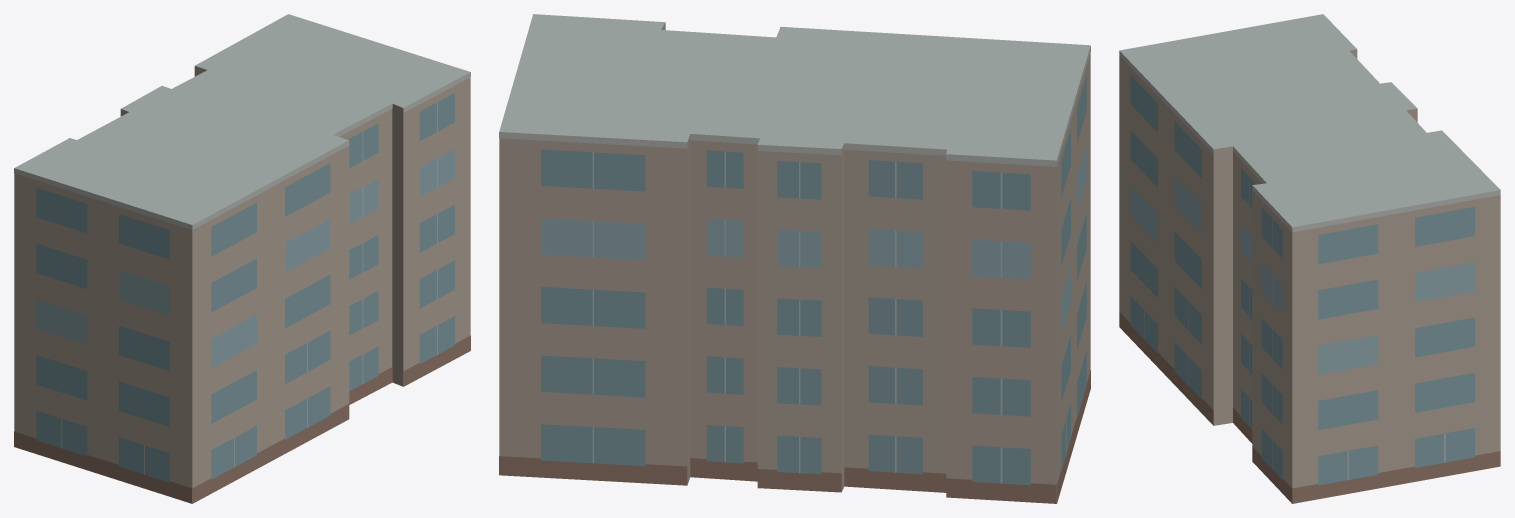
The model's file is survey-upis-32602577.glb.
3 views of the same model, side by side, from view 1: azimuth 30°, elevation 25°; view 2: azimuth 150°, elevation 25°; view 3: azimuth 270°, elevation 25° (orthographic). The views are drawn at different scales.
Parts seen in each view (by area): view 1: survey-upis-32602577.tmp; view 2: survey-upis-32602577.tmp; view 3: survey-upis-32602577.tmp.
Boxes of the visible parts, bbox=[...] form: survey-upis-32602577.tmp: bbox=[14, 14, 470, 503]; survey-upis-32602577.tmp: bbox=[499, 14, 1090, 503]; survey-upis-32602577.tmp: bbox=[1119, 14, 1500, 503].
Bounding box in the file's own units: 22.1 × 13.35 × 16.7.
